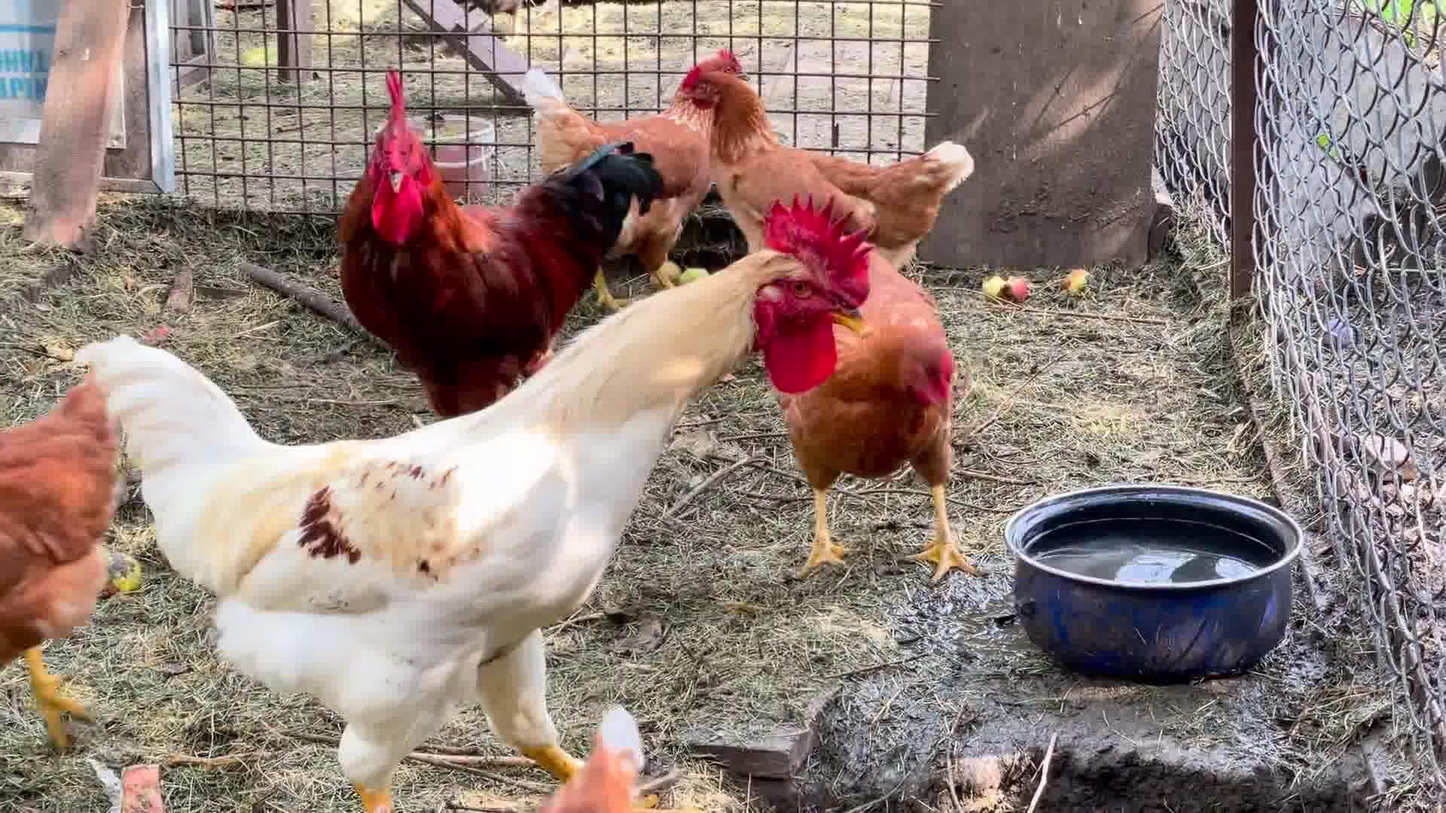Normal: (76, 198, 864, 786), (328, 70, 650, 398), (667, 51, 984, 261), (819, 224, 977, 601), (505, 47, 730, 301)
